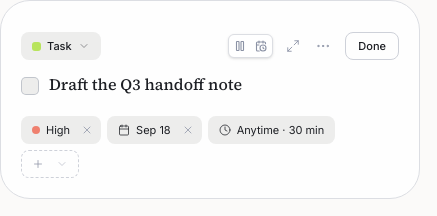
Test: every membership comes back off, from the pill or the picker › clears priority and date from their pills
Click the button with test id "item-dialog-priority-chip-clear": (89, 130) [77, 116, 101, 144]
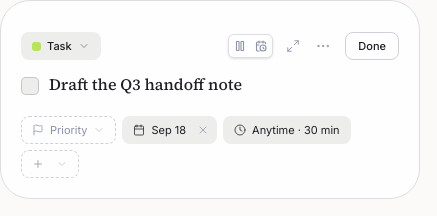
Click the button with test id "item-dialog-date-chip-clear": (205, 130) [193, 116, 217, 144]
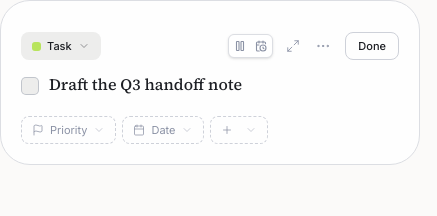
Expected: the button with test id "item-clearing-field" does not show "High"
Result: the button with test id "item-clearing-field" no longer shows "Sep 18"
